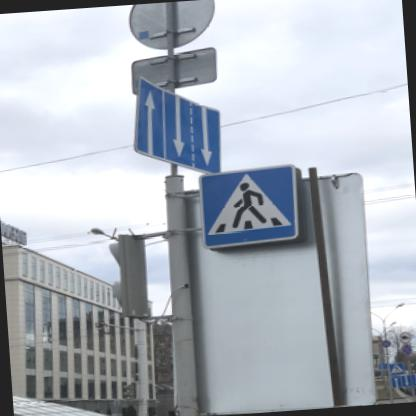crosswalk: (200, 161, 305, 248)
trafficlight: (108, 232, 158, 318)
